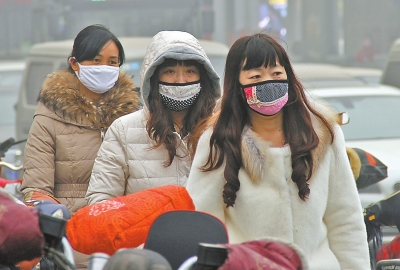face_mask: (243, 56, 289, 115), (159, 58, 199, 109), (85, 43, 119, 93)
